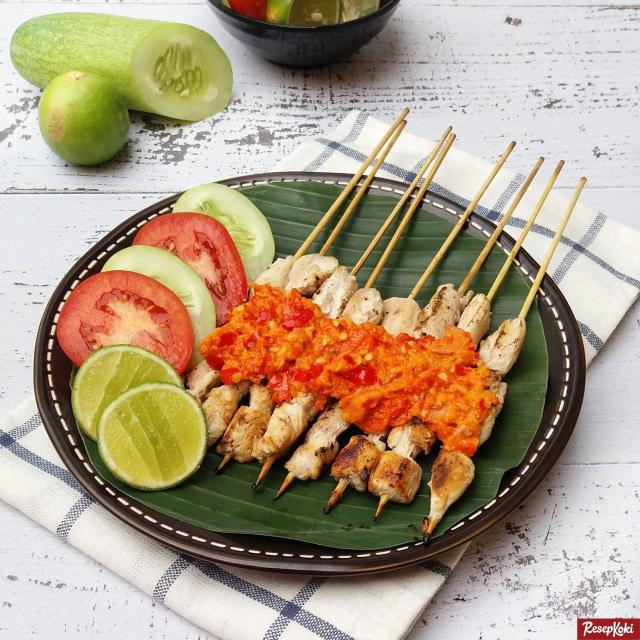Sate: (199, 110, 606, 522)
